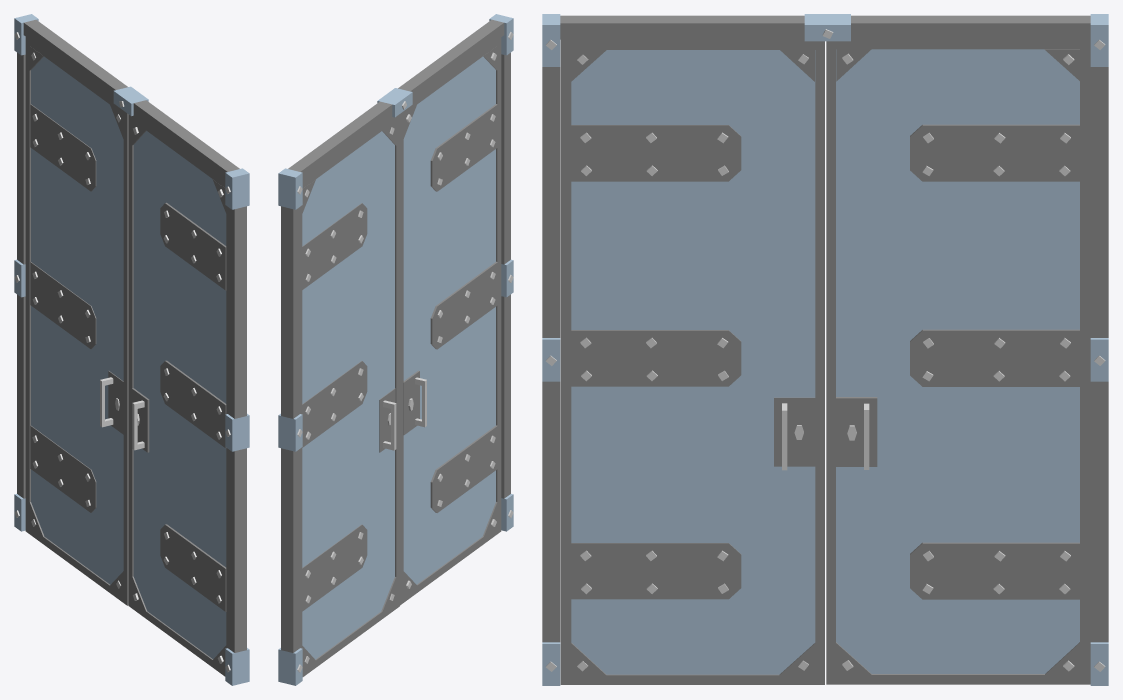
File: DoorArmored2.fbx
3 views of the same model, side by side, from view 1: azimuth 30°, elevation 25°; view 2: azimuth 150°, elevation 25°; view 3: azimuth 270°, elevation 25° (orthographic). The views are drawn at different scales.
Parts seen in each view (by area): view 1: DoorArmored2.1, DoorArmored2.2, DoorArmoredFrame2; view 2: DoorArmored2.2, DoorArmored2.1, DoorArmoredFrame2; view 3: DoorArmored2.2, DoorArmored2.1, DoorArmoredFrame2.
Boxes of the visible parts, x1,y1,x2,y2 form: DoorArmored2.1: [25, 37, 128, 605]; DoorArmored2.2: [128, 114, 227, 676]; DoorArmoredFrame2: [14, 14, 249, 685]; DoorArmored2.2: [400, 37, 501, 605]; DoorArmored2.1: [300, 114, 399, 676]; DoorArmoredFrame2: [278, 14, 513, 685]; DoorArmored2.2: [560, 39, 824, 684]; DoorArmored2.1: [826, 39, 1090, 684]; DoorArmoredFrame2: [542, 14, 1108, 685].
Size of the model in its own units: 36.41 by 563 by 437.
